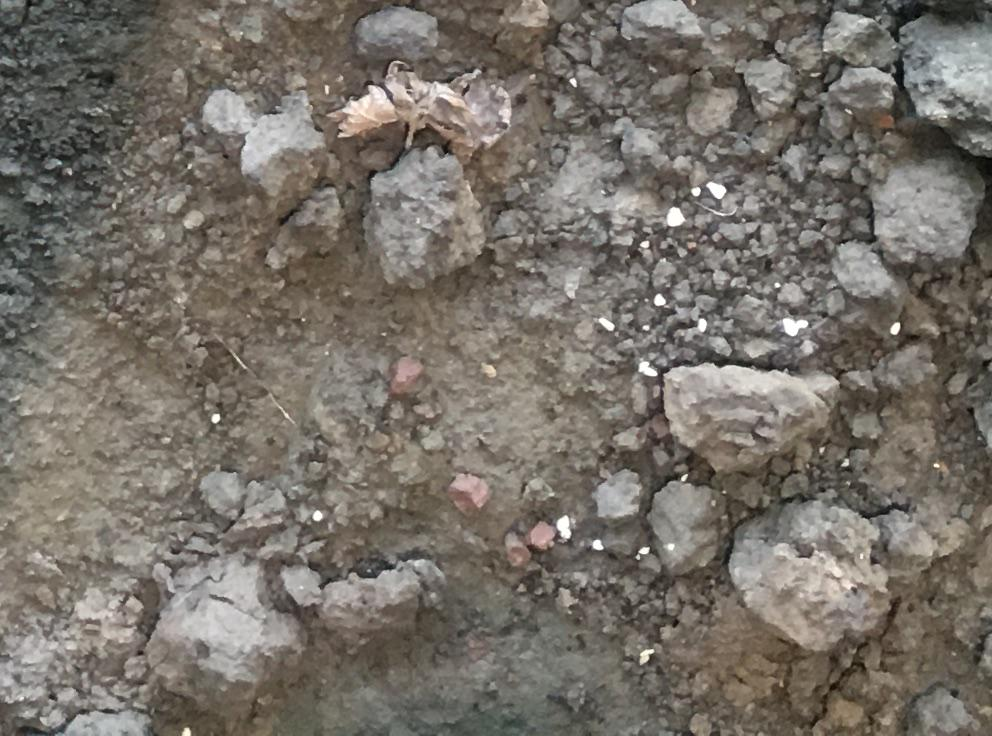block: (719, 499, 892, 656), (141, 558, 305, 710), (659, 364, 843, 477), (364, 150, 490, 289), (855, 142, 979, 267), (899, 9, 992, 150)
